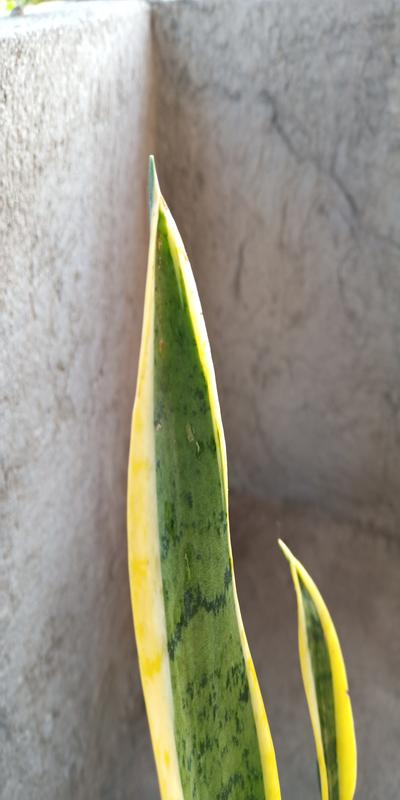Snake plant: (110, 144, 369, 799)
